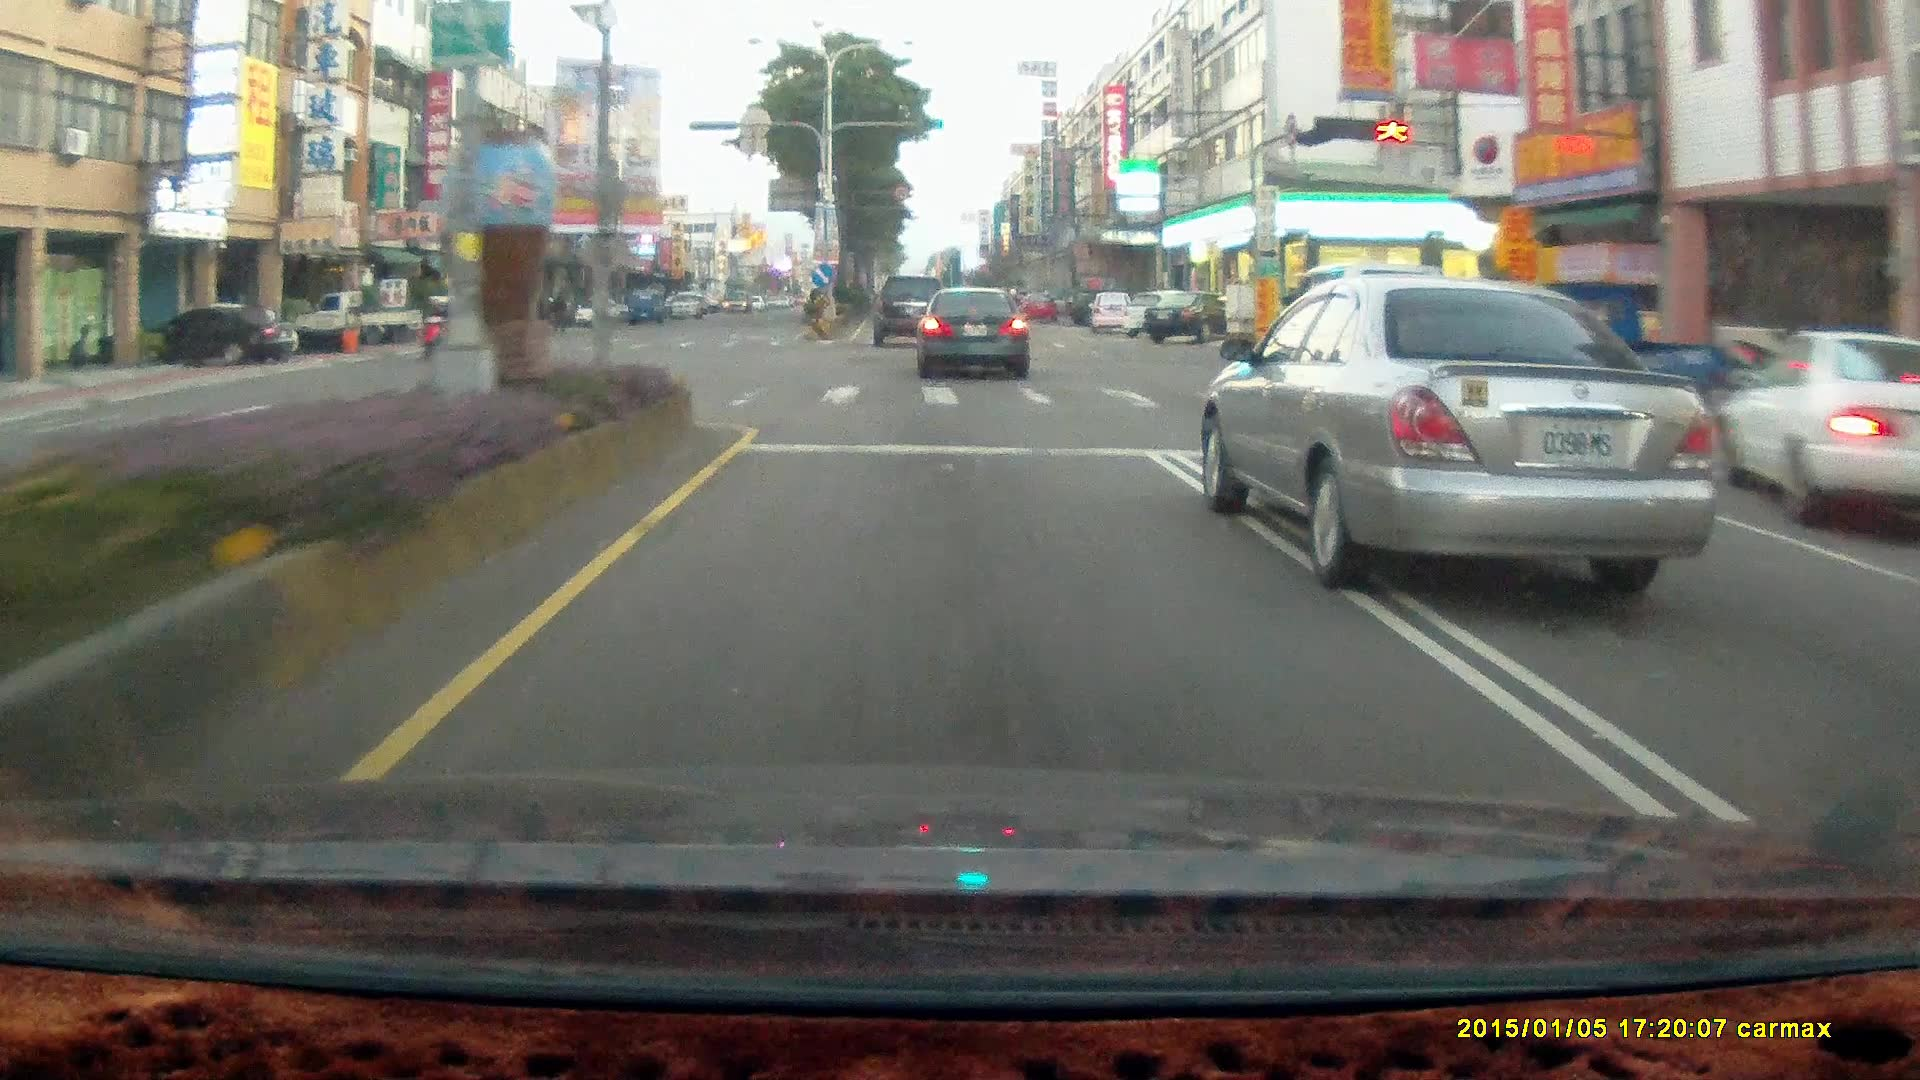rider: (420, 291, 465, 356)
vehicle: (1195, 270, 1716, 582), (1711, 326, 1920, 534), (1472, 277, 1727, 442), (1724, 329, 1920, 531), (1284, 263, 1489, 402), (916, 284, 1028, 378), (919, 291, 1032, 381), (129, 303, 297, 361), (287, 288, 422, 349), (300, 290, 426, 356), (163, 304, 299, 364), (875, 271, 958, 348), (875, 272, 951, 343), (1144, 285, 1242, 338), (1148, 289, 1230, 349), (1120, 289, 1185, 335), (1065, 284, 1121, 323), (1084, 286, 1134, 328), (1090, 290, 1135, 335), (575, 295, 620, 325), (1019, 288, 1055, 319), (630, 290, 662, 320), (664, 288, 696, 313)
